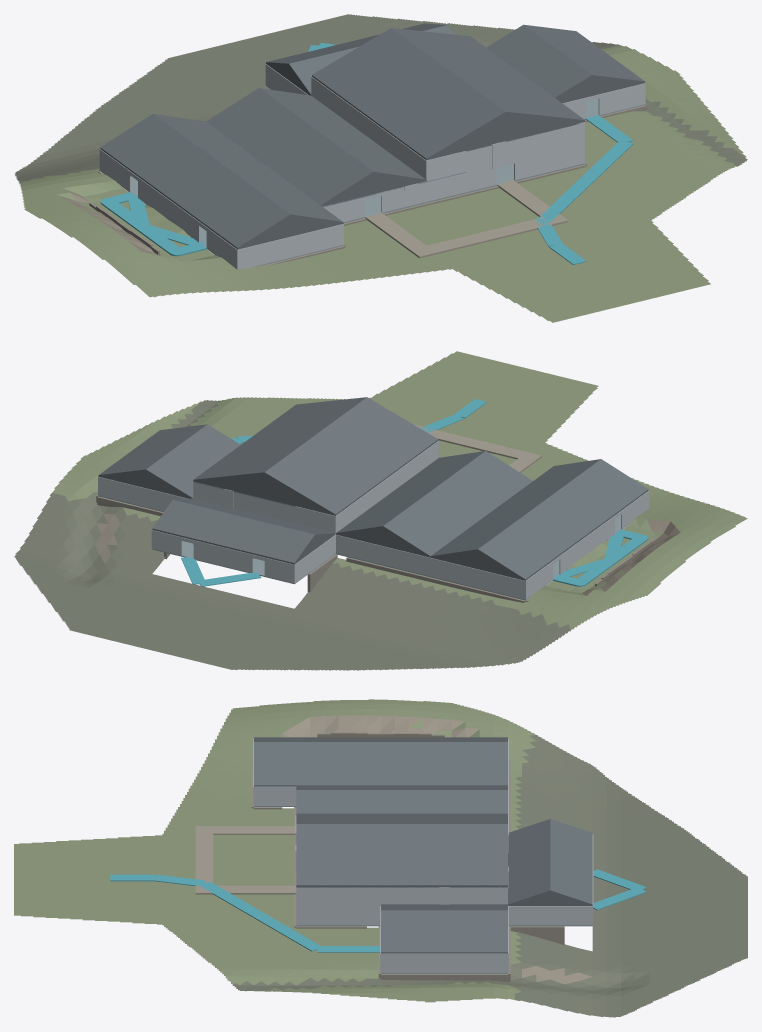
File: rebuilt-entrances.glb
3 views of the same model, one above another, from view 1: azimuth 30°, elevation 25°; view 2: azimuth 150°, elevation 25°; view 3: azimuth 270°, elevation 25° (orthographic). The views are drawn at different scales.
Parts seen in each view (by area): view 1: Saved editor circulation terrain WLD-13, processing-hall roof west, crew-mess-and-bunks roof west, boiler-and-wash roof west, processing-hall roof east, crew-mess-and-bunks roof east, boiler-and-wash roof east, cold-store roof west, Entrance rebuild WLD-13 continuous approach pavement region1, Entrance rebuild WLD-13 processing S end, processing-hall gable south, cold-store roof east (+20 smaller); view 2: Saved editor circulation terrain WLD-13, processing-hall roof west, crew-mess-and-bunks roof west, boiler-and-wash roof west, office-and-stores roof north, processing-hall roof east, crew-mess-and-bunks roof east, cold-store roof west, boiler-and-wash roof east, cold-store roof east, processing-hall gable north, Wall mess N (+19 smaller); view 3: Saved editor circulation terrain WLD-13, processing-hall roof east, crew-mess-and-bunks roof east, cold-store roof east, boiler-and-wash roof east, Entrance rebuild WLD-13 processing E end, office-and-stores roof south, office-and-stores roof north, Wall cold E, Entrance rebuild WLD-13 continuous approach pavement region1, processing-hall roof west, Wall stores E (+7 smaller).
Boxes of the visible parts, bbox=[...] form: Saved editor circulation terrain WLD-13: bbox=[14, 14, 747, 322]; processing-hall roof west: bbox=[312, 28, 505, 159]; crew-mess-and-bunks roof west: bbox=[100, 114, 290, 249]; boiler-and-wash roof west: bbox=[206, 88, 373, 205]; processing-hall roof east: bbox=[392, 28, 584, 121]; crew-mess-and-bunks roof east: bbox=[153, 113, 343, 223]; boiler-and-wash roof east: bbox=[259, 88, 425, 180]; cold-store roof west: bbox=[486, 25, 592, 98]; Entrance rebuild WLD-13 continuous approach pavement region1: bbox=[365, 179, 568, 258]; Entrance rebuild WLD-13 processing S end: bbox=[514, 122, 584, 180]; processing-hall gable south: bbox=[426, 113, 584, 160]; cold-store roof east: bbox=[524, 25, 645, 82]; Saved editor circulation terrain WLD-13: bbox=[14, 351, 747, 670]; processing-hall roof west: bbox=[264, 397, 438, 515]; crew-mess-and-bunks roof west: bbox=[478, 459, 648, 580]; boiler-and-wash roof west: bbox=[383, 451, 532, 557]; office-and-stores roof north: bbox=[152, 500, 314, 564]; processing-hall roof east: bbox=[193, 397, 366, 480]; crew-mess-and-bunks roof east: bbox=[430, 459, 600, 557]; cold-store roof west: bbox=[146, 424, 240, 498]; boiler-and-wash roof east: bbox=[336, 451, 484, 534]; cold-store roof east: bbox=[98, 424, 206, 476]; processing-hall gable north: bbox=[193, 473, 336, 515]; Wall mess N: bbox=[430, 557, 525, 599]; Saved editor circulation terrain WLD-13: bbox=[14, 699, 747, 1017]; processing-hall roof east: bbox=[296, 824, 507, 886]; crew-mess-and-bunks roof east: bbox=[254, 742, 507, 786]; cold-store roof east: bbox=[381, 910, 507, 953]; boiler-and-wash roof east: bbox=[296, 790, 507, 813]; Entrance rebuild WLD-13 processing E end: bbox=[296, 887, 436, 925]; office-and-stores roof south: bbox=[508, 819, 550, 905]; office-and-stores roof north: bbox=[550, 819, 592, 905]; Wall cold E: bbox=[381, 953, 507, 973]; Entrance rebuild WLD-13 continuous approach pavement region1: bbox=[195, 826, 296, 894]; processing-hall roof west: bbox=[296, 813, 507, 823]; Wall stores E: bbox=[508, 906, 592, 925].
Bounding box in the file's own units: 97 × 15.43 × 104.
